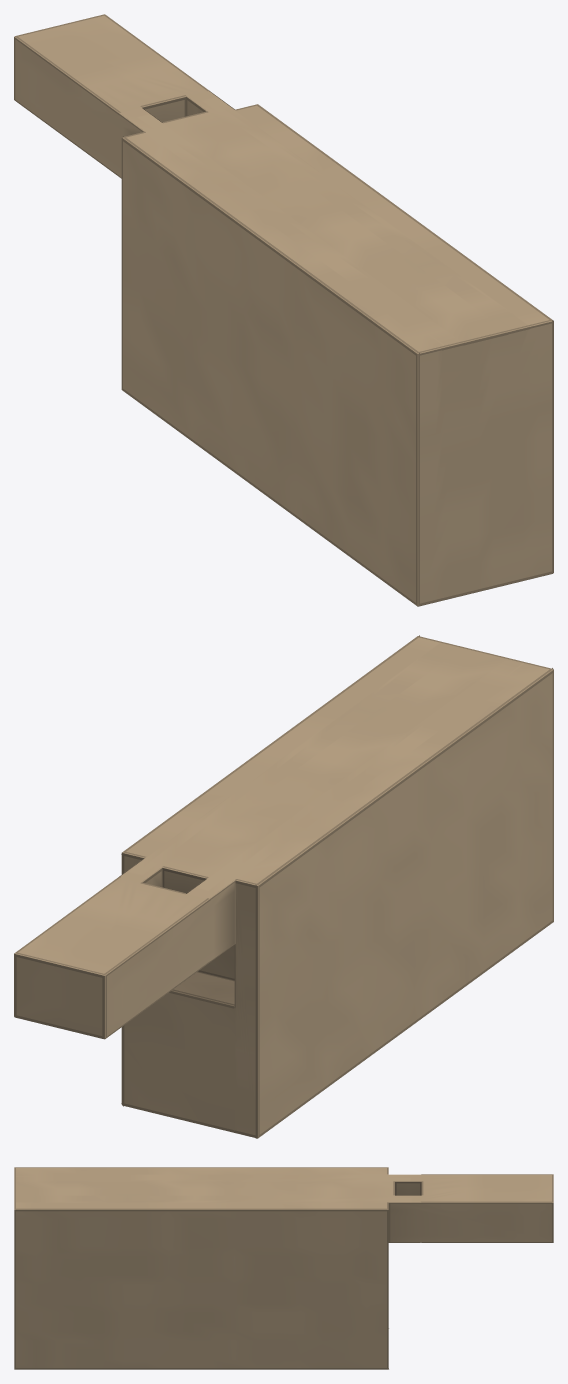
3 renders of one model, top to bottom at view 1: azimuth 30°, elevation 25°; view 2: azimuth 150°, elevation 25°; view 3: azimuth 270°, elevation 25°, orthographic. The views are drawn at different scales.
Parts seen in each view (by area): view 1: part-e; view 2: part-e; view 3: part-e.
Boxes of the visible parts, x1,y1,x2,y2 form: part-e: [14, 14, 553, 606]; part-e: [14, 635, 553, 1138]; part-e: [14, 1167, 553, 1369].
Bounding box in the file's own units: 0.0908 × 0.1614 × 0.4908.
